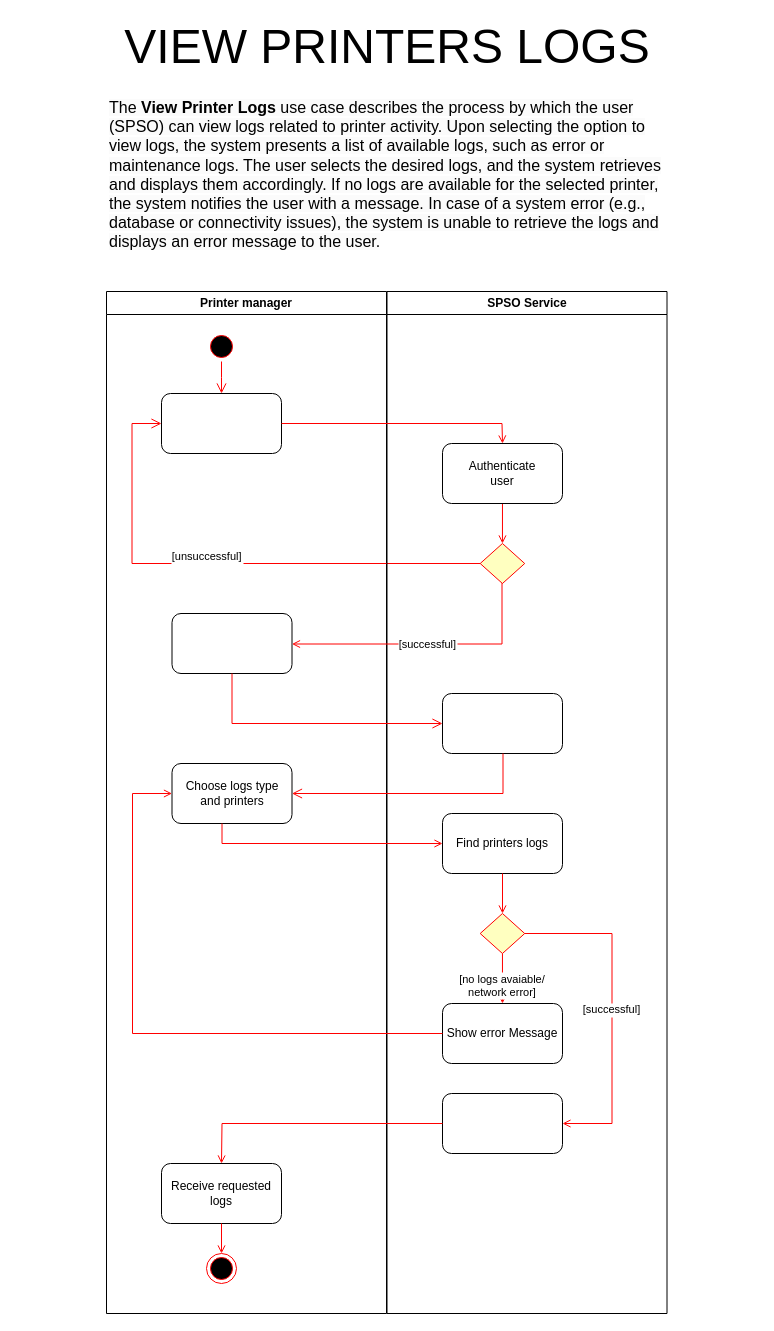
Some shapes in this 774 by 1331 pixel diagram are drawn without their labels. Each missing label, with the centre of its shape:
Get printer logs: [231,643]
Log in to the SPSO service: [221,423]
Send logs: [502,1123]
Show list of available logs: [502,723]
